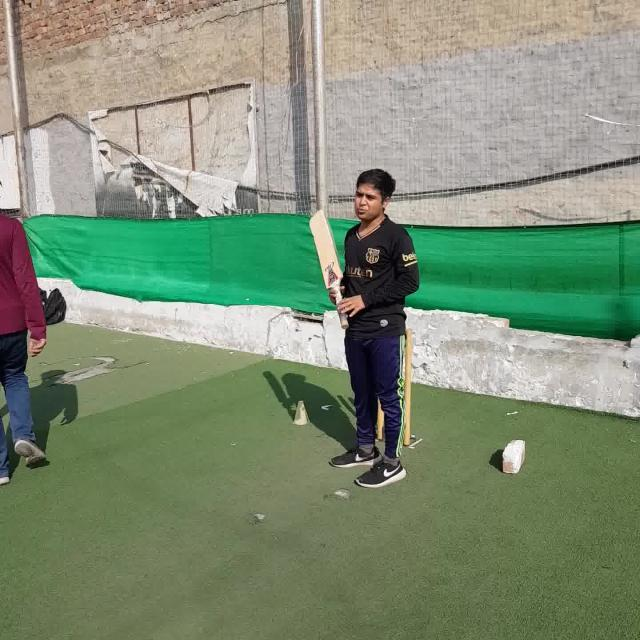bat: (308, 210, 348, 329)
